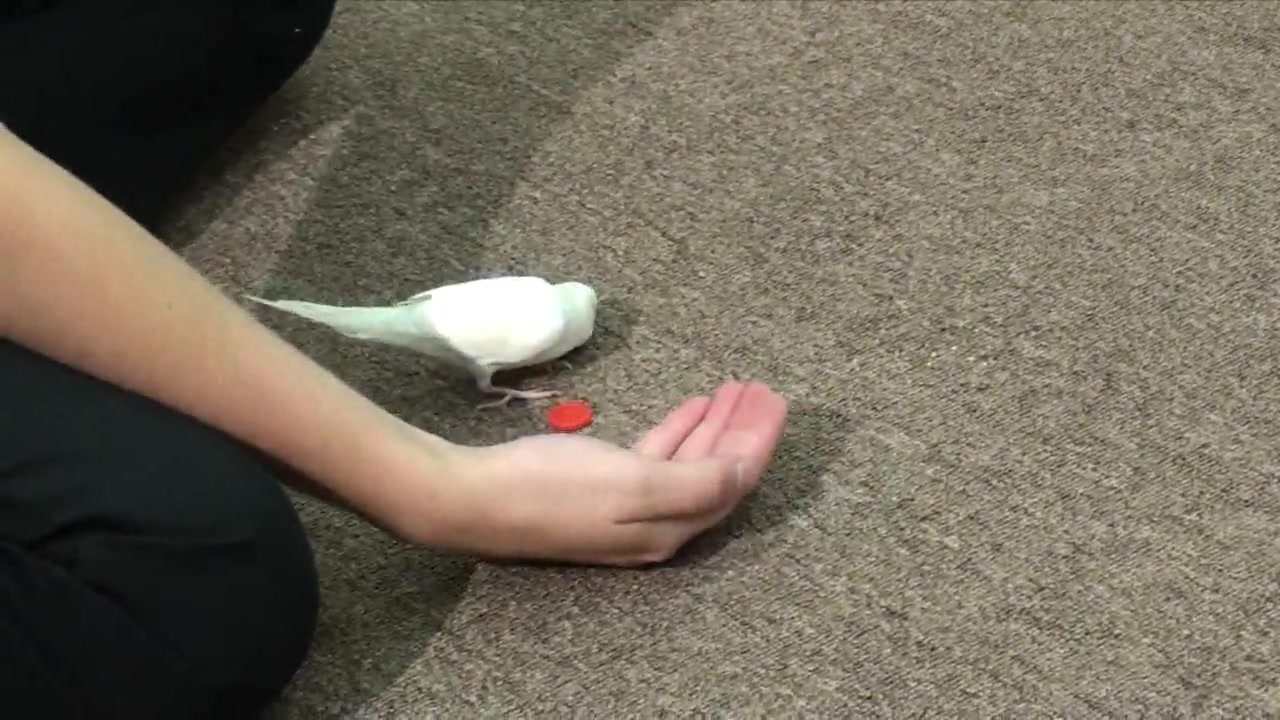bird: (238, 273, 603, 417)
